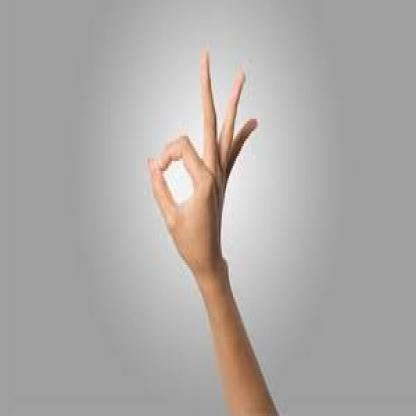ok: (146, 41, 258, 274)
